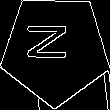N_E: (31, 29, 80, 70)
